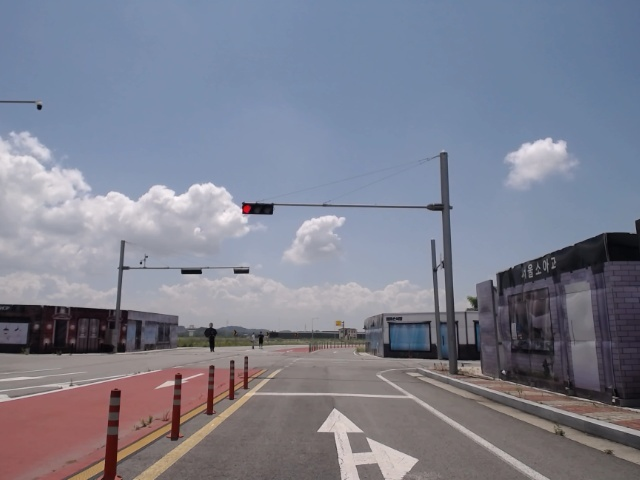red_3: (241, 203, 273, 215)
